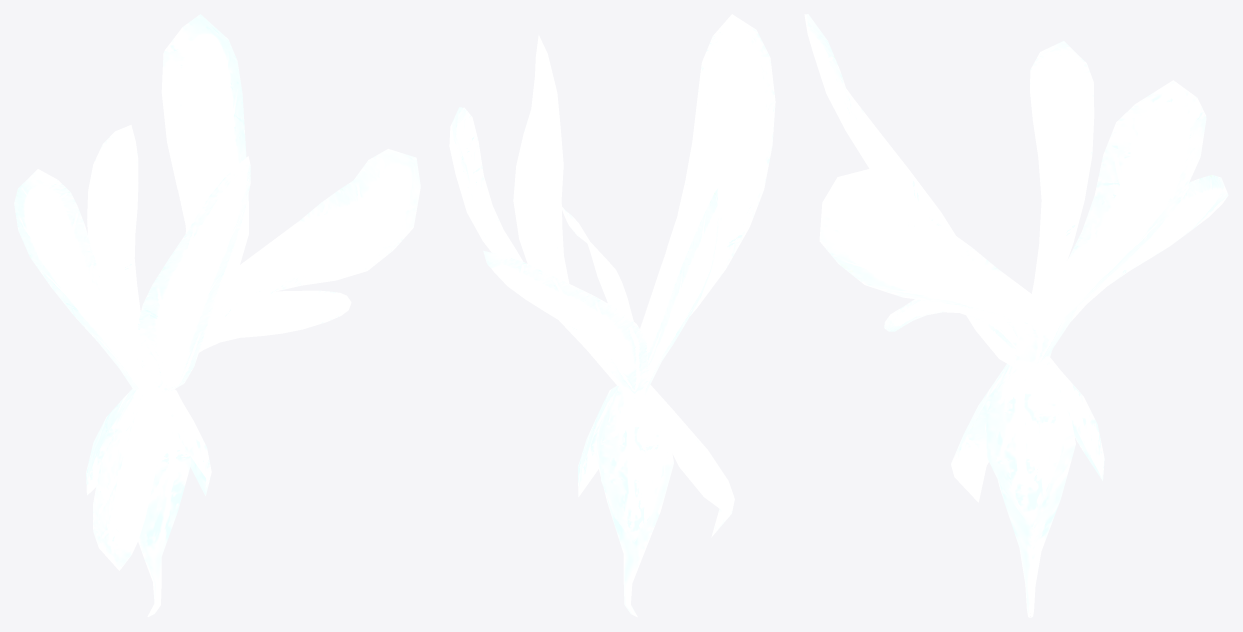
3 views of the same model, side by side, from view 1: azimuth 30°, elevation 25°; view 2: azimuth 150°, elevation 25°; view 3: azimuth 270°, elevation 25° (orthographic). The views are drawn at different scales.
Visible parts, largest first — view 1: SM_Toadflax_v3_LOD0; view 2: SM_Toadflax_v3_LOD0; view 3: SM_Toadflax_v3_LOD0.
Part boxes in pixels (x1,y1,x2,y2): SM_Toadflax_v3_LOD0: [14, 14, 420, 616]; SM_Toadflax_v3_LOD0: [449, 14, 775, 617]; SM_Toadflax_v3_LOD0: [804, 14, 1228, 617].
Bounding box in the file's own units: 0.2377 × 0.4177 × 0.2654.
